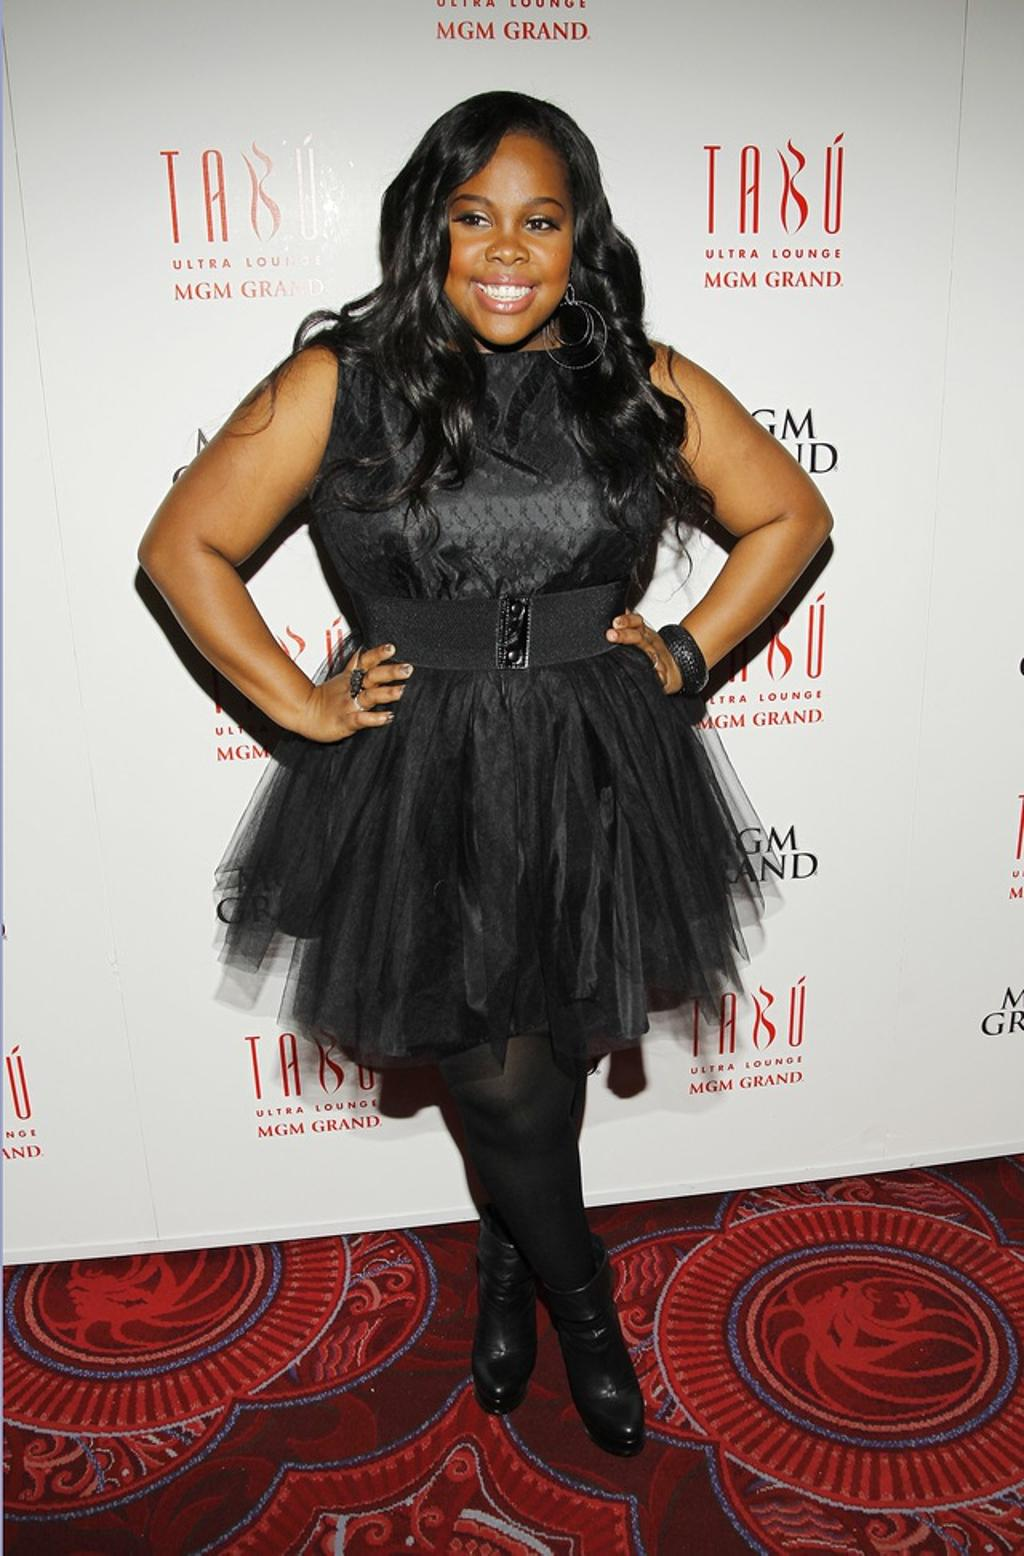face: (444, 137, 569, 344)
